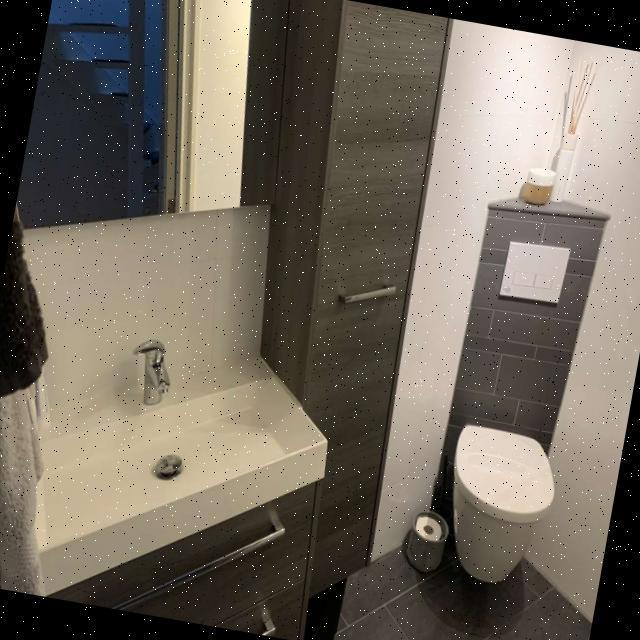toilet: (432, 422, 564, 593)
wastafel: (0, 299, 344, 640), (0, 415, 330, 640)
